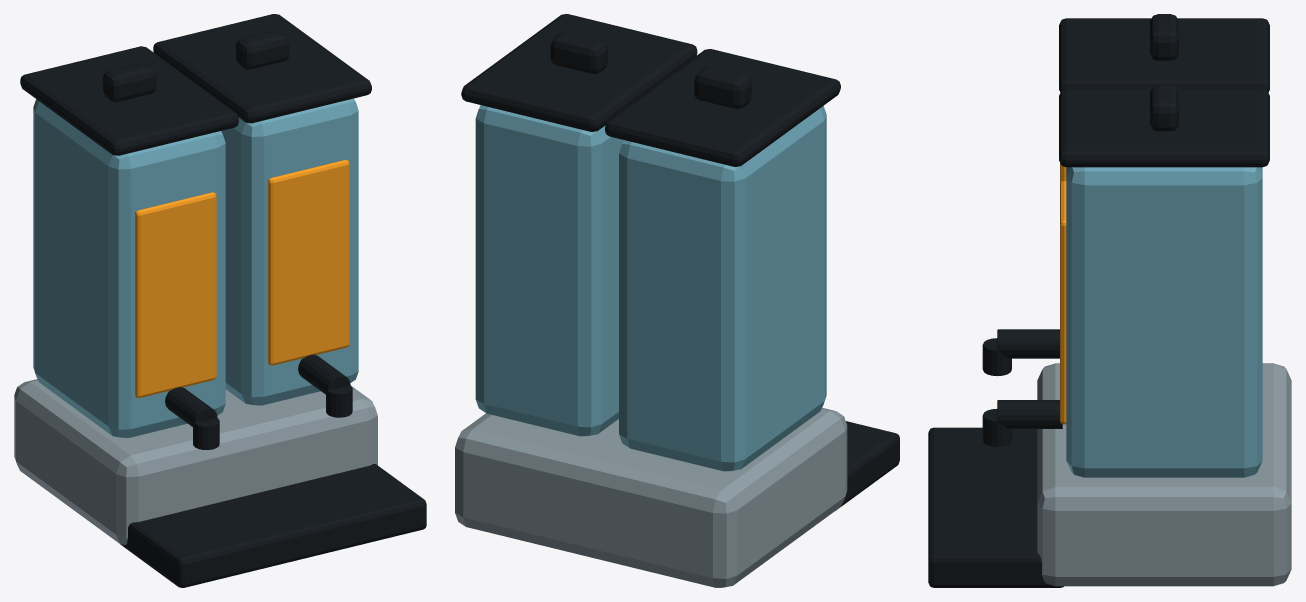
The picture shows the model from 3 angles, left to right: view 1: azimuth 30°, elevation 25°; view 2: azimuth 150°, elevation 25°; view 3: azimuth 270°, elevation 25°; orthographic projection. The views are drawn at different scales.
Visible parts, largest first — view 1: TANK_Frosted, BASE, TANK_Frosted.001, DRIP_Tray, CONTENTS_Indicator.001, CONTENTS_Indicator, LID, LID.001, LID_Handle, LID_Handle.001, TAP_Spout, TAP_Spout.001 (+2 smaller); view 2: TANK_Frosted, BASE, TANK_Frosted.001, LID, LID.001, DRIP_Tray, LID_Handle, LID_Handle.001; view 3: TANK_Frosted.001, BASE, DRIP_Tray, LID.001, LID, TAP_Spout, TAP_Spout.001, CONTENTS_Indicator, LID_Handle.001, LID_Handle, TAP_Nozzle, TAP_Nozzle.001.
Part boxes in pixels (x1=…): TANK_Frosted: x1=33, y1=99, x2=225, y2=437; BASE: x1=14, y1=379, x2=377, y2=544; TANK_Frosted.001: x1=221, y1=98, x2=358, y2=405; DRIP_Tray: x1=120, y1=464, x2=426, y2=587; CONTENTS_Indicator.001: x1=135, y1=192, x2=216, y2=397; CONTENTS_Indicator: x1=268, y1=160, x2=349, y2=365; LID: x1=20, y1=46, x2=238, y2=155; LID.001: x1=153, y1=14, x2=371, y2=123; LID_Handle: x1=103, y1=63, x2=156, y2=101; LID_Handle.001: x1=236, y1=31, x2=289, y2=69; TAP_Spout: x1=165, y1=387, x2=217, y2=426; TAP_Spout.001: x1=298, y1=354, x2=350, y2=394; TANK_Frosted: x1=619, y1=106, x2=826, y2=471; BASE: x1=455, y1=407, x2=847, y2=587; TANK_Frosted.001: x1=475, y1=105, x2=623, y2=436; LID: x1=605, y1=49, x2=840, y2=166; LID.001: x1=461, y1=14, x2=697, y2=131; DRIP_Tray: x1=836, y1=421, x2=899, y2=510; LID_Handle: x1=694, y1=67, x2=751, y2=108; LID_Handle.001: x1=550, y1=32, x2=607, y2=73; TANK_Frosted.001: x1=1066, y1=167, x2=1262, y2=477; BASE: x1=1037, y1=363, x2=1291, y2=586; DRIP_Tray: x1=928, y1=427, x2=1063, y2=587; LID.001: x1=1059, y1=89, x2=1269, y2=167; LID: x1=1059, y1=18, x2=1269, y2=92; TAP_Spout: x1=997, y1=329, x2=1059, y2=358; TAP_Spout.001: x1=997, y1=400, x2=1062, y2=428; CONTENTS_Indicator: x1=1060, y1=181, x2=1066, y2=424; LID_Handle.001: x1=1150, y1=84, x2=1178, y2=131; LID_Handle: x1=1150, y1=14, x2=1178, y2=60; TAP_Nozzle: x1=982, y1=338, x2=1011, y2=376; TAP_Nozzle.001: x1=982, y1=409, x2=1011, y2=446.
Size of the model in its own units: 0.45 by 0.7075 by 0.5.
